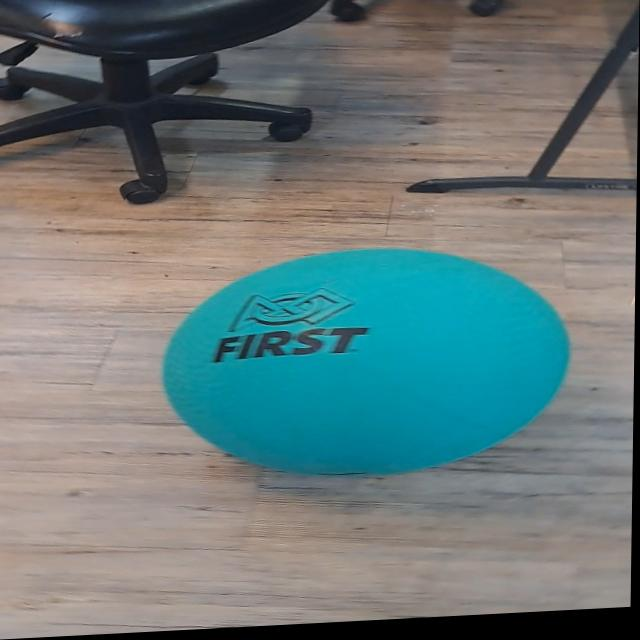ALGAE: (157, 235, 574, 488)
